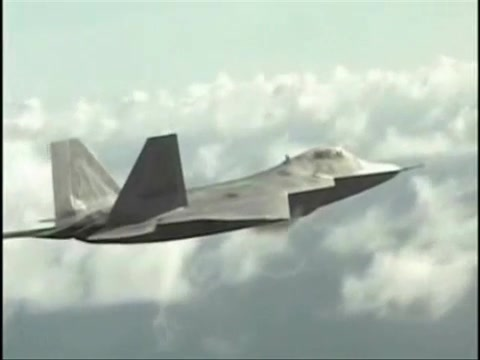aeroplane: (4, 134, 426, 246)
